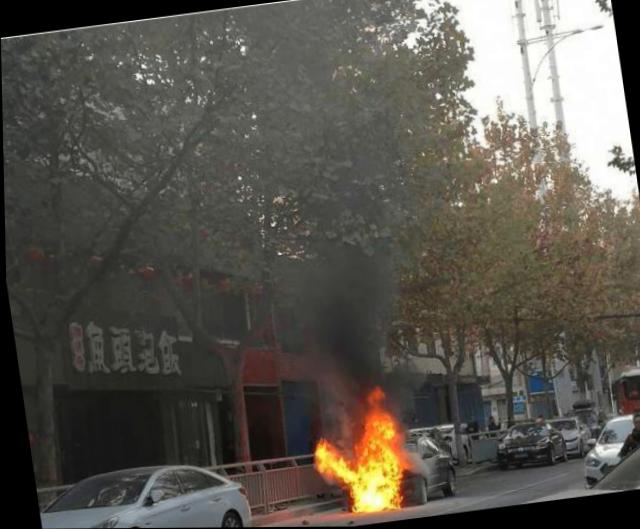fire: (300, 382, 406, 519)
